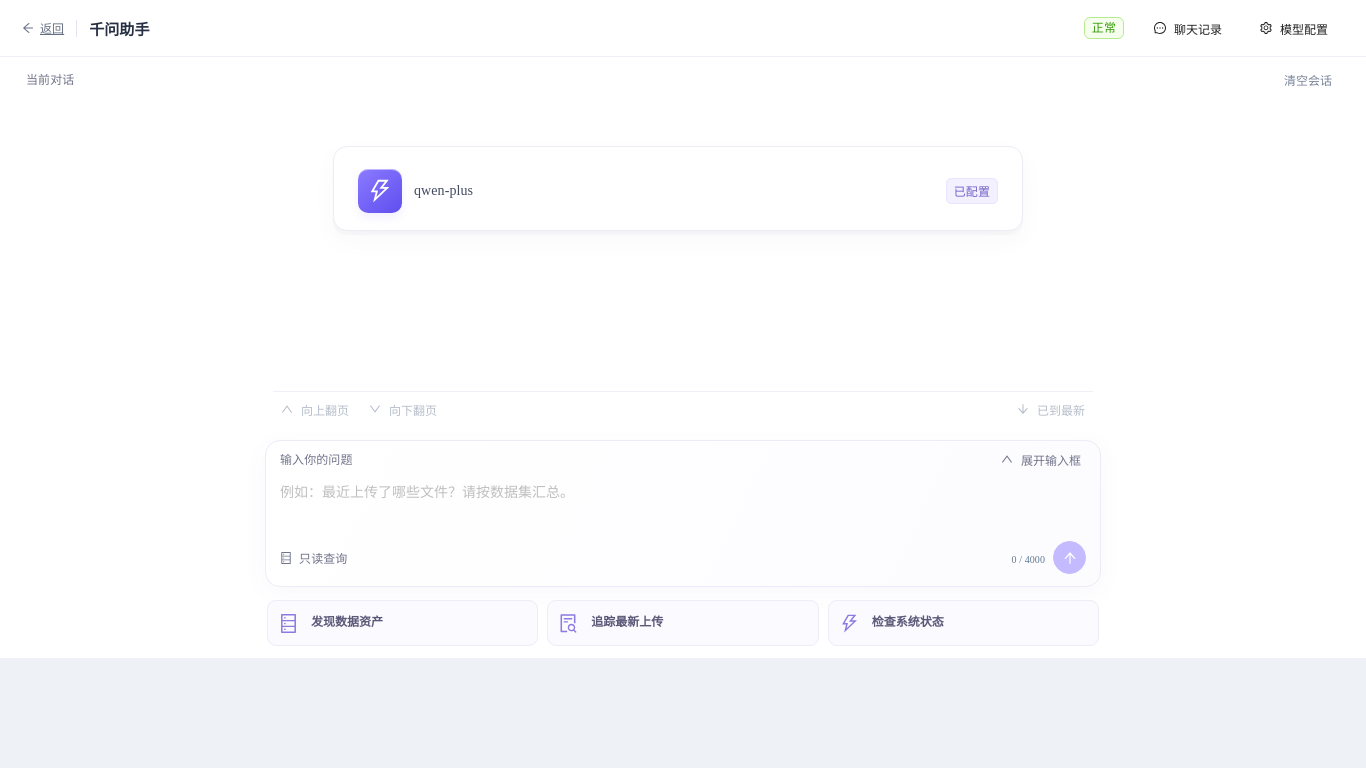
it: Warehouse AI interface › reports provider failure without losing the page
Type "数据集" into the text box named "输入问题" at (683, 504), box x1=280 y1=479 x2=1086 y2=529
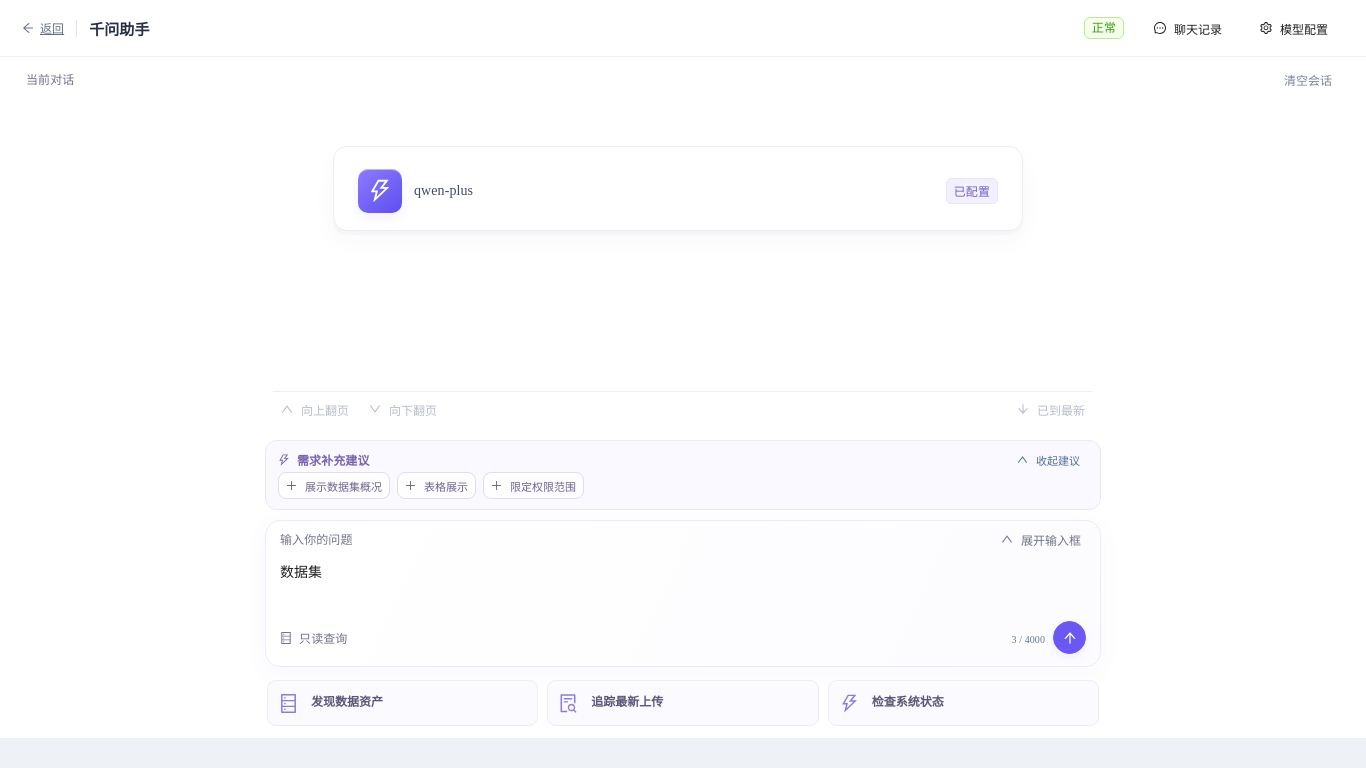
Click the button named "发送" at (1070, 638), box x1=1053 y1=621 x2=1086 y2=654
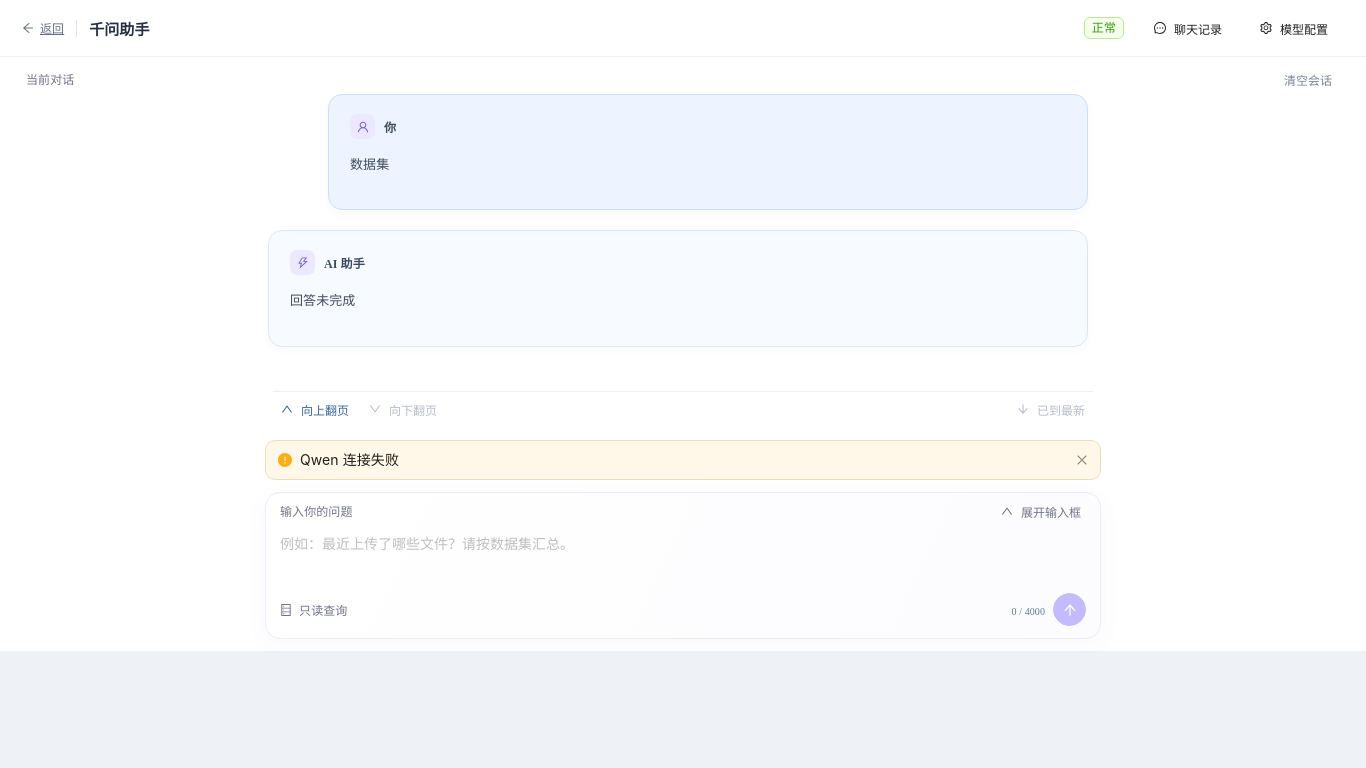
Expected: the text box named "输入问题" is shown, x1=280 y1=531 x2=1086 y2=581
Result: the text "Qwen 连接失败" is shown at x1=300 y1=451 x2=399 y2=468
